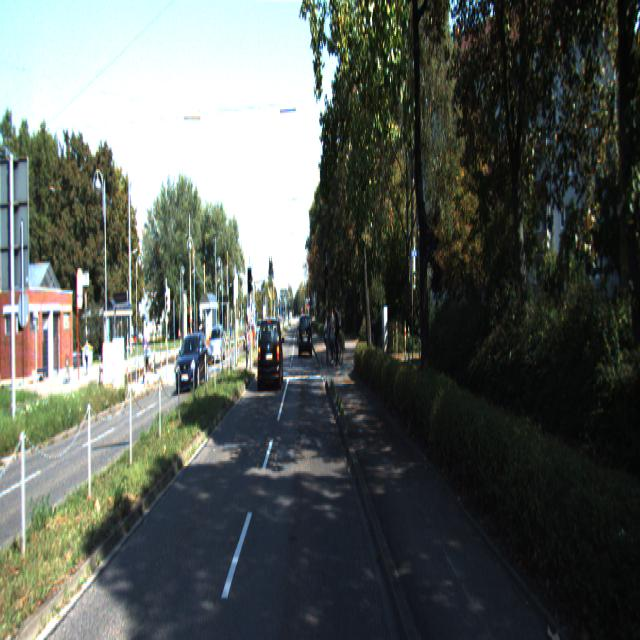Car: (176, 330, 209, 395), (258, 316, 284, 394), (299, 314, 313, 360)
